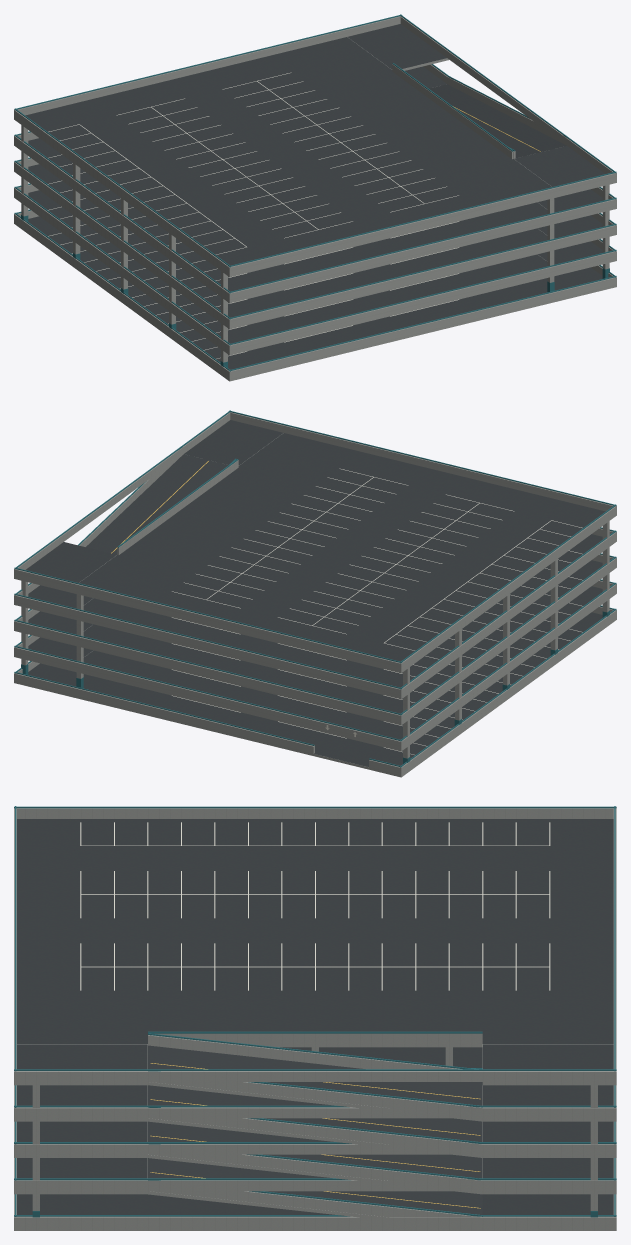
File: large_05.glb
3 views of the same model, one above another, from view 1: azimuth 30°, elevation 25°; view 2: azimuth 150°, elevation 25°; view 3: azimuth 270°, elevation 25° (orthographic). The views are drawn at different scales.
Visible parts, largest first — view 1: large_05_Asphalt, large_05_Concrete, large_05_Teal, large_05_Paint; view 2: large_05_Asphalt, large_05_Concrete, large_05_Teal, large_05_Paint; view 3: large_05_Asphalt, large_05_Concrete, large_05_Teal, large_05_Paint, large_05_Yellow.
Boxes of the visible parts, left/top/right/bottom form: large_05_Asphalt: left=25, top=24, right=604, bottom=369; large_05_Concrete: left=14, top=16, right=616, bottom=381; large_05_Teal: left=14, top=14, right=616, bottom=371; large_05_Paint: left=48, top=72, right=458, bottom=358; large_05_Asphalt: left=26, top=420, right=605, bottom=766; large_05_Concrete: left=14, top=412, right=616, bottom=777; large_05_Teal: left=14, top=410, right=616, bottom=767; large_05_Paint: left=172, top=468, right=582, bottom=754; large_05_Asphalt: left=17, top=819, right=613, bottom=1214; large_05_Concrete: left=14, top=808, right=616, bottom=1230; large_05_Teal: left=14, top=806, right=616, bottom=1217; large_05_Paint: left=80, top=822, right=550, bottom=990; large_05_Yellow: left=150, top=1063, right=480, bottom=1208.
Bounding box in the file's own units: 56 × 15.88 × 54.02.
6 materials, 2 textured.
